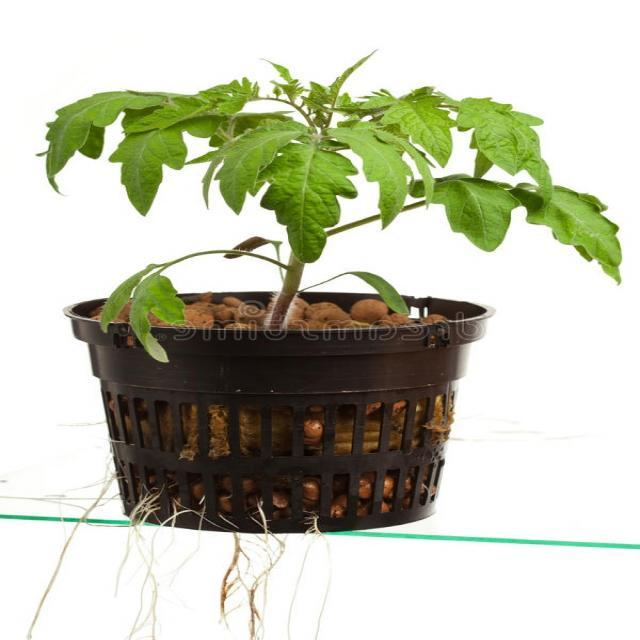tomato: (45, 55, 623, 330), (99, 250, 225, 362)
